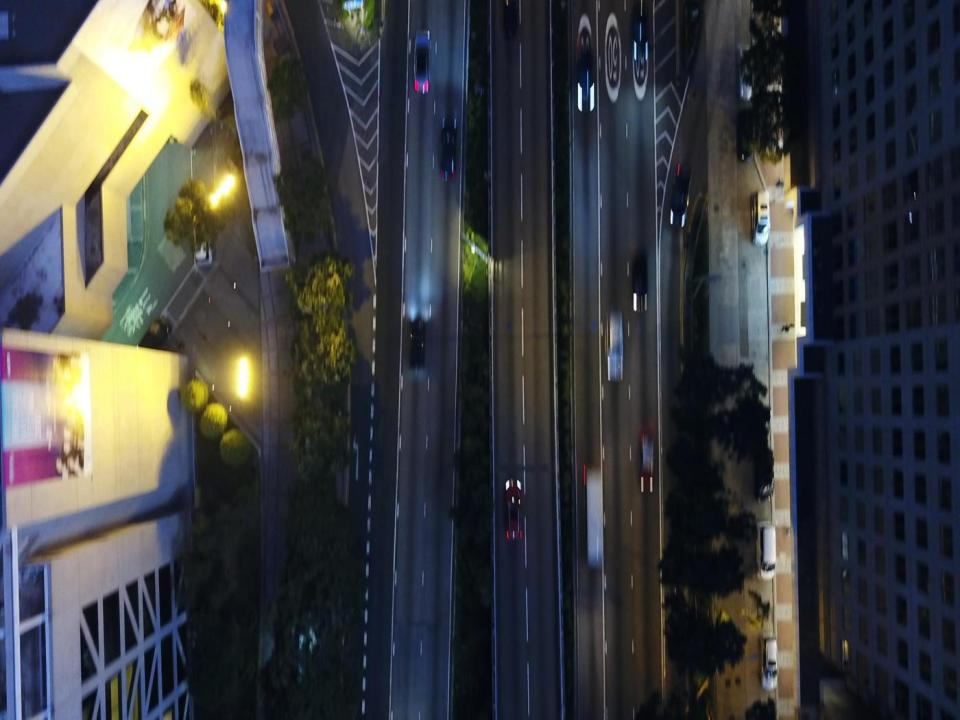bus: (584, 469, 604, 571)
car: (668, 161, 692, 227), (436, 115, 457, 180), (577, 36, 595, 110), (503, 480, 524, 540), (412, 33, 431, 91), (631, 0, 649, 60), (408, 310, 426, 365), (755, 446, 773, 501), (736, 111, 755, 161), (631, 255, 646, 311), (640, 436, 655, 491)
van: (602, 313, 623, 383), (756, 523, 777, 582), (194, 210, 214, 266), (751, 187, 769, 248), (760, 633, 778, 691), (737, 42, 754, 99)
